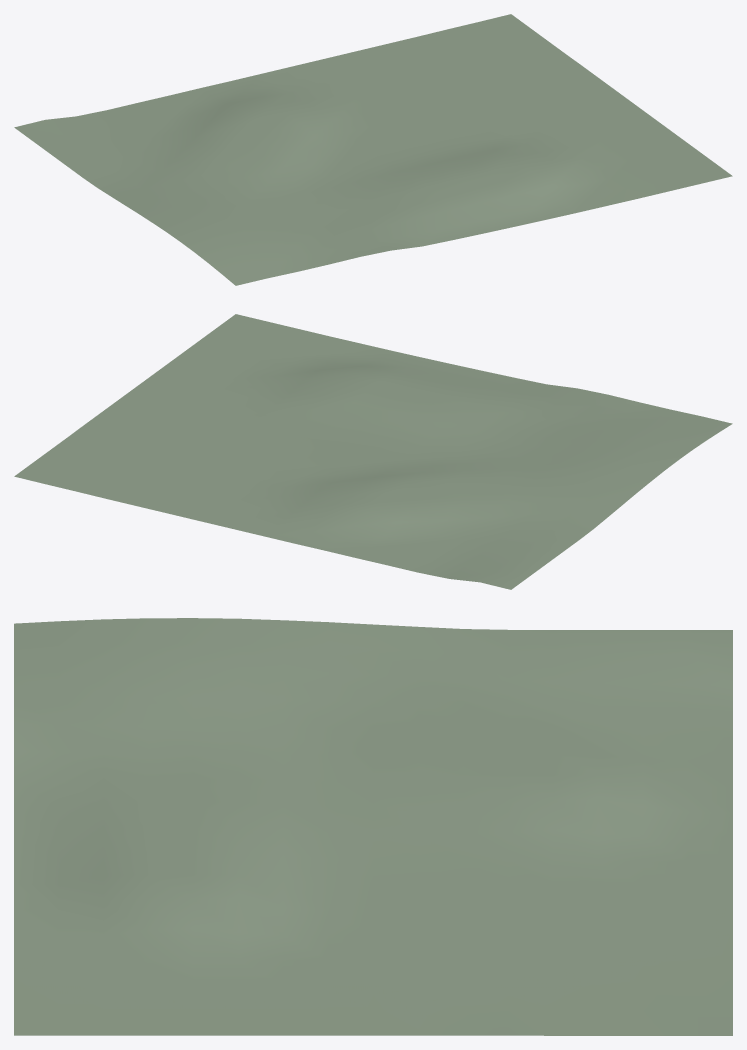
The model's file is chunk_2_1_LOD1.glb.
3 renders of one model, top to bottom at view 1: azimuth 30°, elevation 25°; view 2: azimuth 150°, elevation 25°; view 3: azimuth 270°, elevation 25°, orthographic. The views are drawn at different scales.
Size of the model in its own units: 110 by 3.2 by 85.
